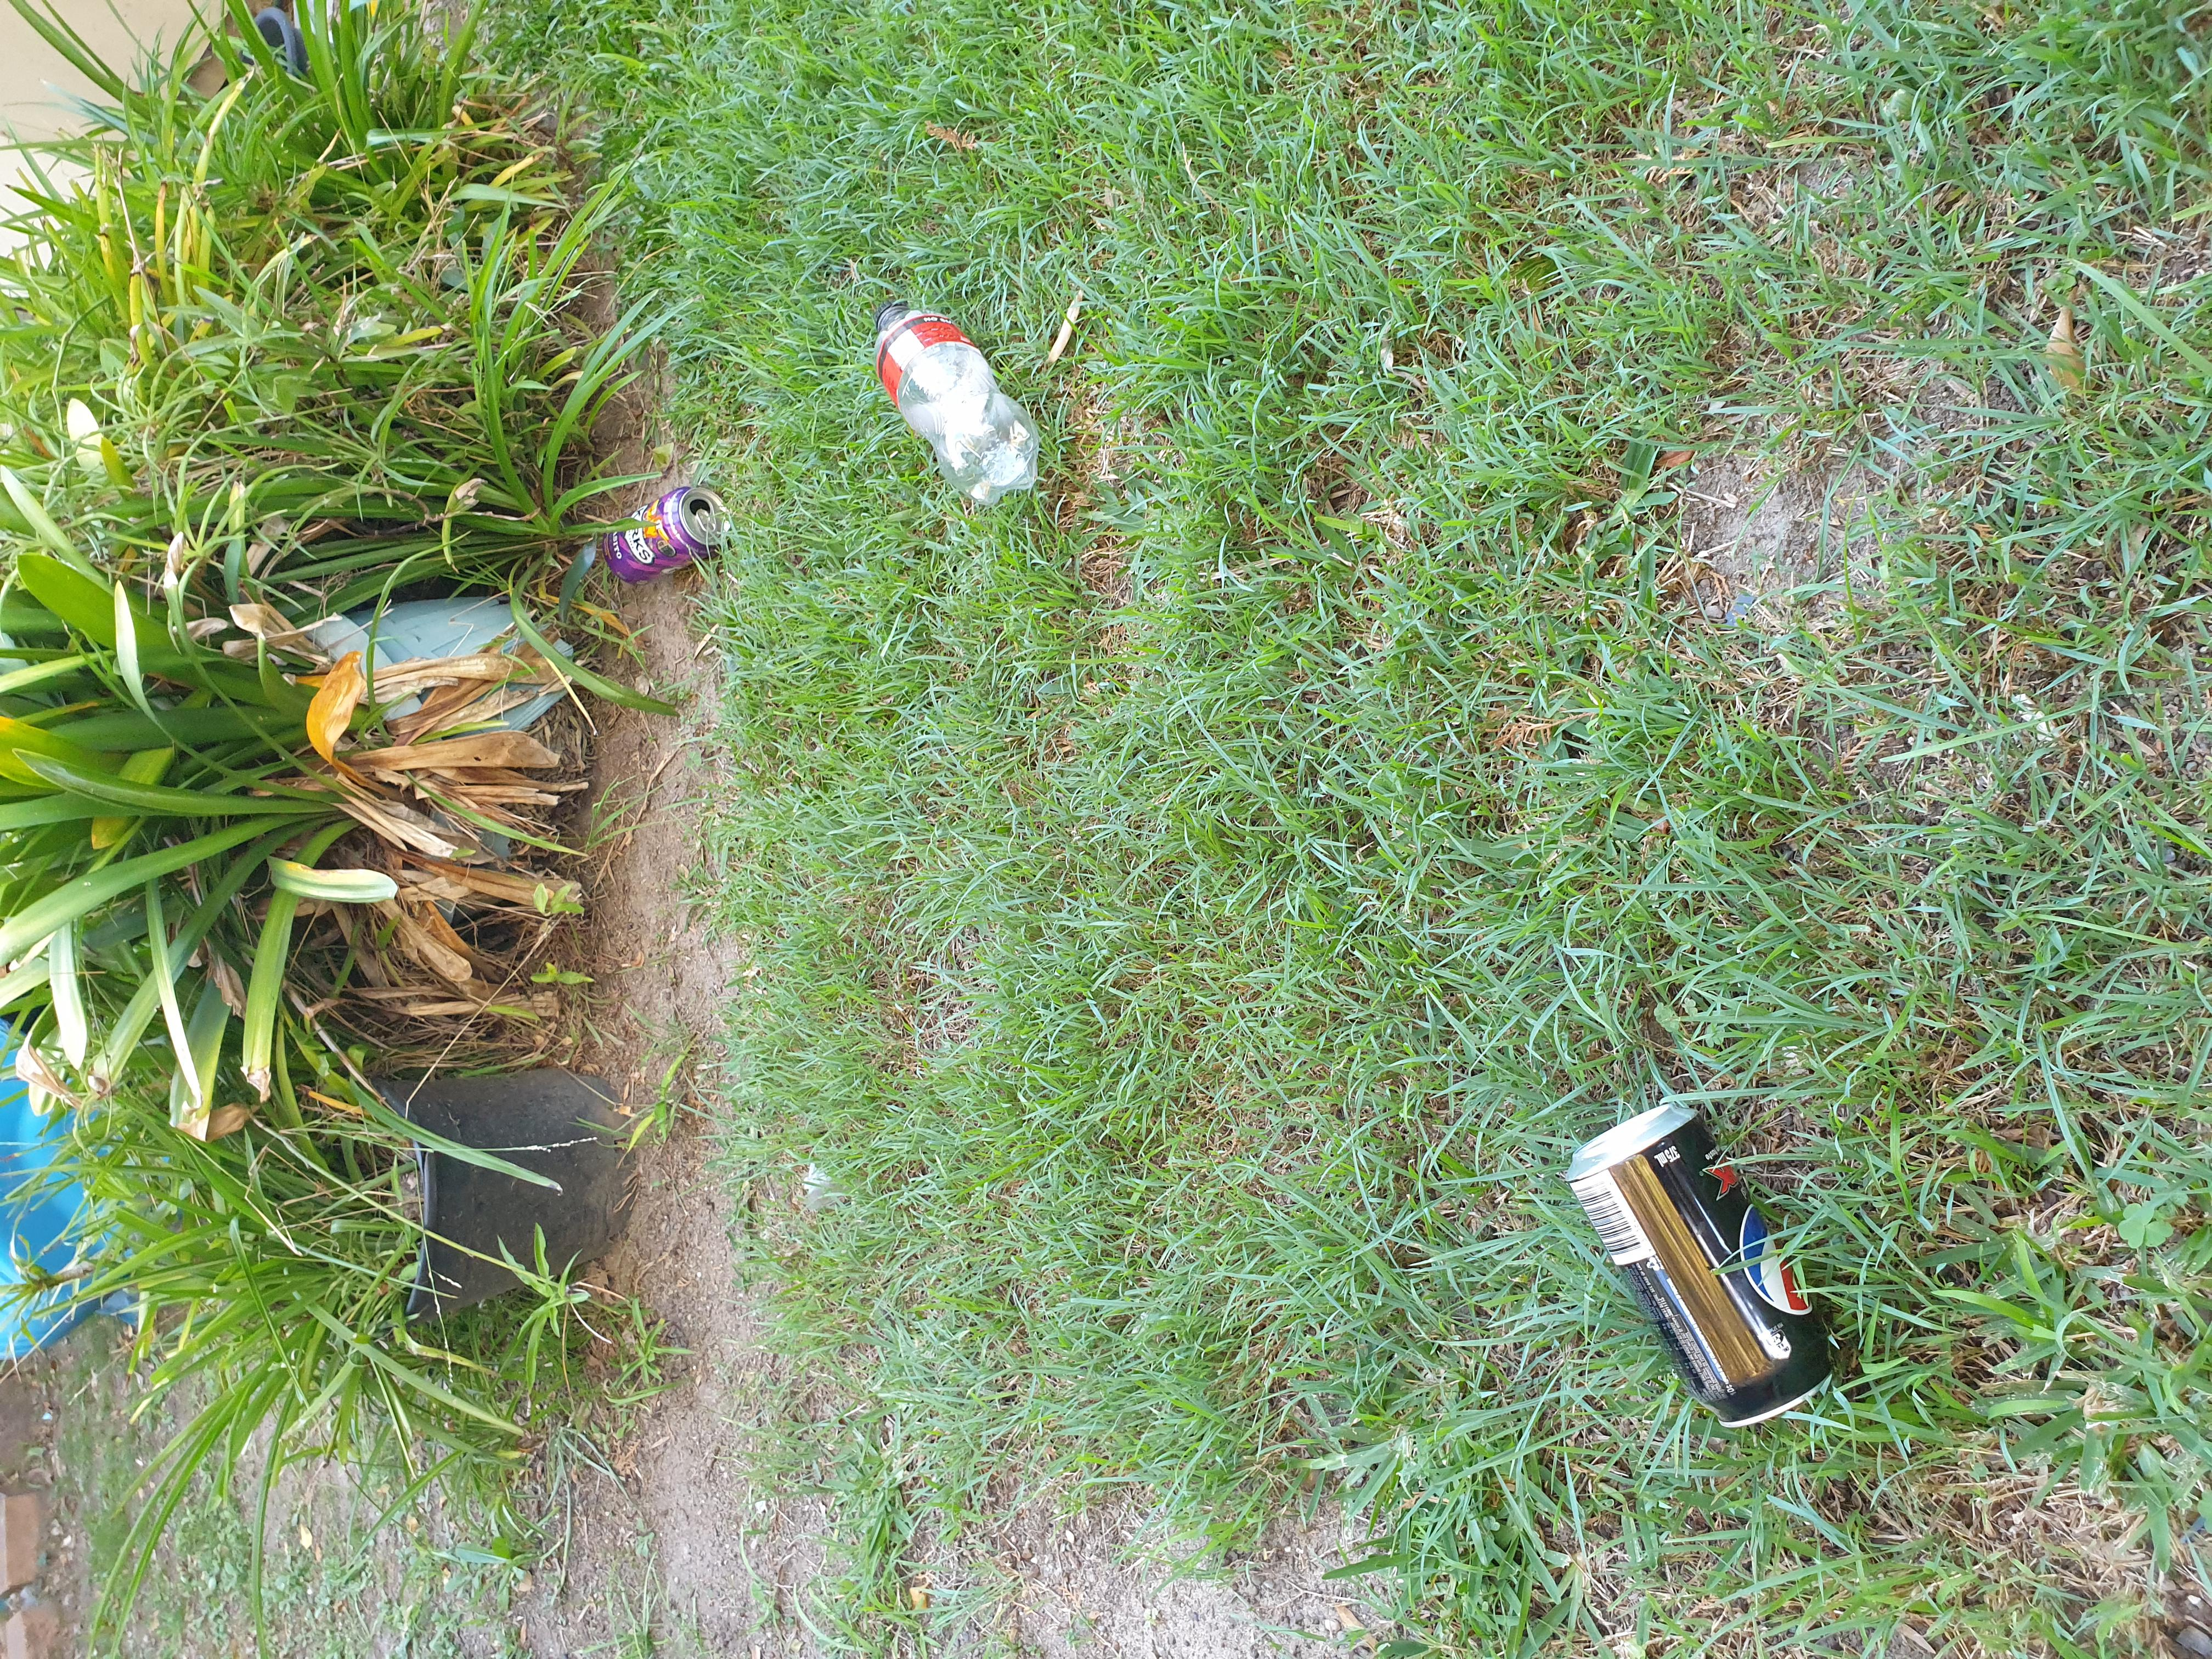Plastic Bottle: (1568, 1105, 1832, 1427), (873, 301, 1038, 504), (604, 486, 728, 587)
